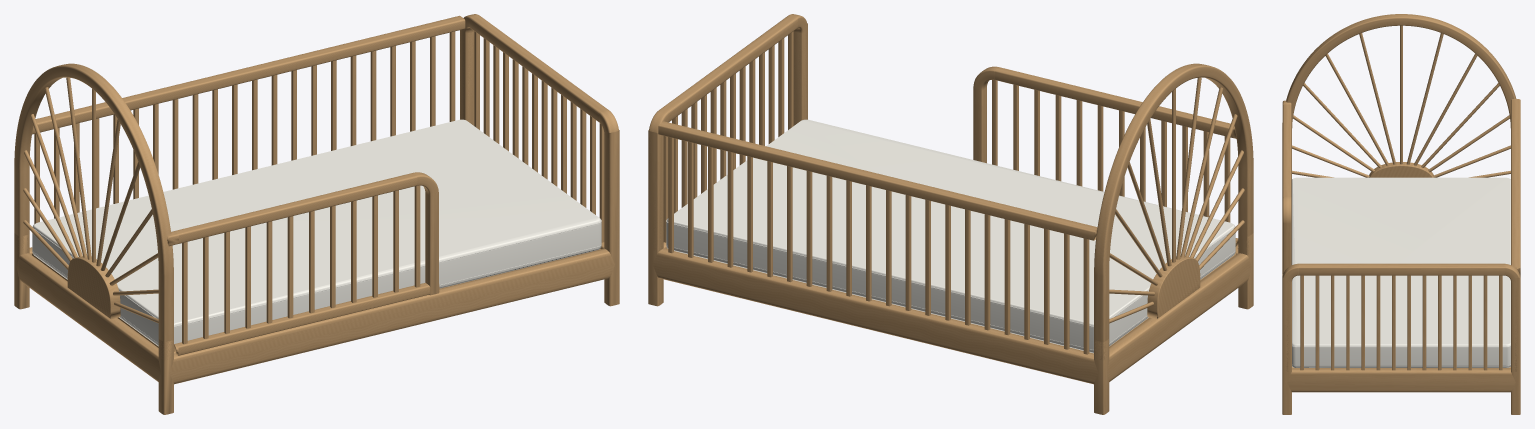
The model's file is tootoo1_oak_kids.glb.
3 renders of one model, left to right at view 1: azimuth 30°, elevation 25°; view 2: azimuth 150°, elevation 25°; view 3: azimuth 270°, elevation 25°, orthographic. The views are drawn at different scales.
Parts seen in each view (by area): view 1: Fitted ivory mattress covering bed deck 2000 x 1110 x 130 mm, Long oak base rail, Refined continuous vaulted head H1250 W1200, Rear safety rail L2000, Rounded solid oak leg (×4), Front partial guard L1200 opening780, Foot frame H820 W1200, End base rail, Front guard lower rail, Low flattened sun hub with softened edge, Round sunburst ray 08, Round sunburst ray 09 (+37 smaller); view 2: Fitted ivory mattress covering bed deck 2000 x 1110 x 130 mm, Long oak base rail, Refined continuous vaulted head H1250 W1200, Rear safety rail L2000, Rounded solid oak leg (×4), End base rail, Foot frame H820 W1200, Front partial guard L1200 opening780, Low flattened sun hub with softened edge, Round sunburst ray 06, Round sunburst ray 05, Rear spindle 00 (+38 smaller); view 3: Fitted ivory mattress covering bed deck 2000 x 1110 x 130 mm, End base rail, Refined continuous vaulted head H1250 W1200, Foot frame H820 W1200, Rounded solid oak leg (×2), Rear safety rail L2000, Front partial guard L1200 opening780, Low flattened sun hub with softened edge, Round sunburst ray 06, Round sunburst ray 08, Round sunburst ray 05, Round sunburst ray 09 (+22 smaller).
Boxes of the visible parts, left/top/right/bottom form: Fitted ivory mattress covering bed deck 2000 x 1110 x 130 mm: left=32, top=119, right=601, bottom=346; Long oak base rail: left=169, top=248, right=614, bottom=384; Refined continuous vaulted head H1250 W1200: left=14, top=63, right=173, bottom=360; Rear safety rail L2000: left=32, top=15, right=465, bottom=134; Rounded solid oak leg (×4): left=14, top=29, right=619, bottom=414; Front partial guard L1200 opening780: left=174, top=172, right=438, bottom=295; Foot frame H820 W1200: left=460, top=14, right=619, bottom=251; End base rail: left=16, top=253, right=160, bottom=381; Front guard lower rail: left=174, top=283, right=439, bottom=355; Low flattened sun hub with softened edge: left=67, top=256, right=120, bottom=319; Round sunburst ray 08: left=66, top=77, right=91, bottom=259; Round sunburst ray 09: left=44, top=87, right=87, bottom=257; Fitted ivory mattress covering bed deck 2000 x 1110 x 130 mm: left=666, top=119, right=1235, bottom=353; Long oak base rail: left=653, top=248, right=1098, bottom=384; Refined continuous vaulted head H1250 W1200: left=1094, top=63, right=1253, bottom=360; Rear safety rail L2000: left=658, top=121, right=1097, bottom=240; Rounded solid oak leg (×4): left=648, top=23, right=1253, bottom=414; End base rail: left=1107, top=253, right=1251, bottom=381; Foot frame H820 W1200: left=648, top=14, right=807, bottom=251; Front partial guard L1200 opening780: left=973, top=66, right=1234, bottom=163; Low flattened sun hub with softened edge: left=1147, top=256, right=1200, bottom=319; Round sunburst ray 06: left=1176, top=77, right=1201, bottom=259; Round sunburst ray 05: left=1180, top=87, right=1223, bottom=257; Rear spindle 00: left=1083, top=238, right=1089, bottom=354; Fitted ivory mattress covering bed deck 2000 x 1110 x 130 mm: left=1291, top=177, right=1510, bottom=367; End base rail: left=1287, top=368, right=1515, bottom=392; Refined continuous vaulted head H1250 W1200: left=1282, top=14, right=1516, bottom=198; Foot frame H820 W1200: left=1282, top=263, right=1520, bottom=371; Rounded solid oak leg (×2): left=1282, top=274, right=1520, bottom=414; Rear safety rail L2000: left=1511, top=99, right=1520, bottom=273; Front partial guard L1200 opening780: left=1282, top=104, right=1291, bottom=273; Low flattened sun hub with softened edge: left=1369, top=162, right=1433, bottom=177; Round sunburst ray 06: left=1359, top=33, right=1396, bottom=164; Round sunburst ray 08: left=1406, top=33, right=1443, bottom=164; Round sunburst ray 05: left=1325, top=53, right=1389, bottom=165; Round sunburst ray 09: left=1413, top=53, right=1477, bottom=165.
Size of the model in its own units: 2.1 by 1.25 by 1.2.
2 materials, 1 textured.
